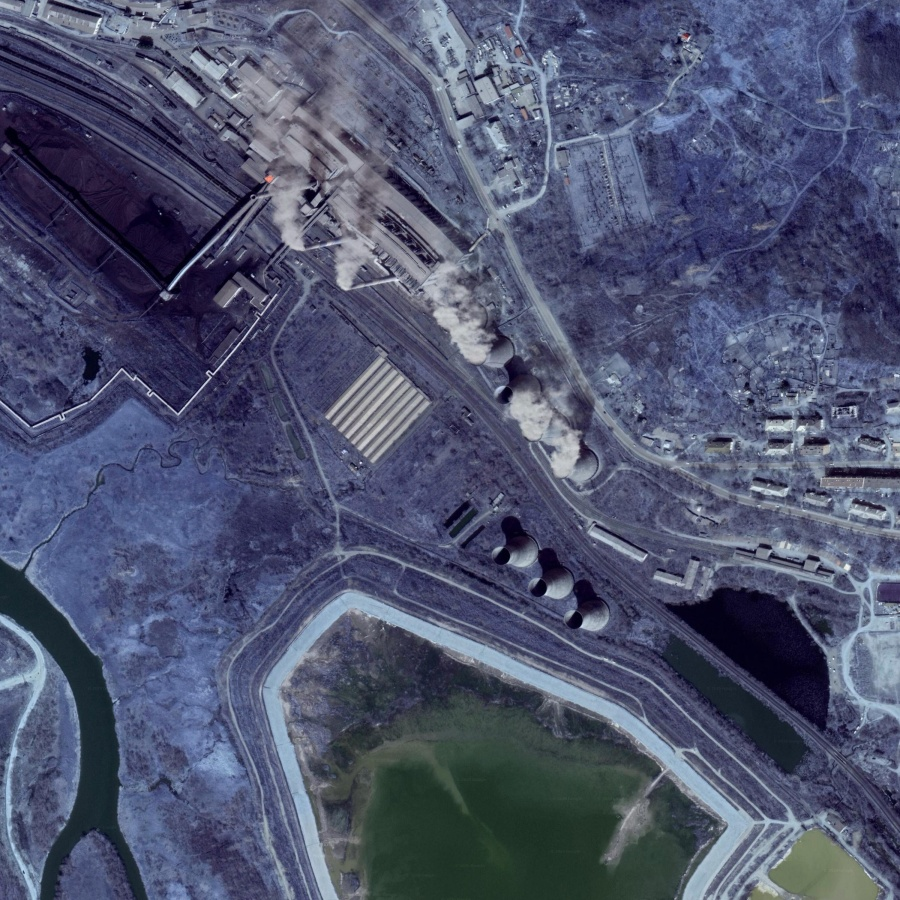PowerPlant: (430, 271, 644, 644)
